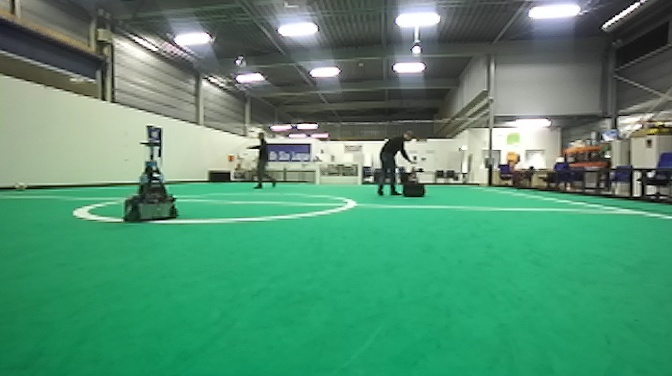ball: (11, 180, 30, 192)
goal: (314, 159, 363, 189)
goalpost: (356, 158, 364, 186), (314, 161, 321, 188)
human: (375, 128, 421, 198), (241, 129, 281, 191)
robot: (122, 137, 183, 229), (399, 159, 427, 200)
